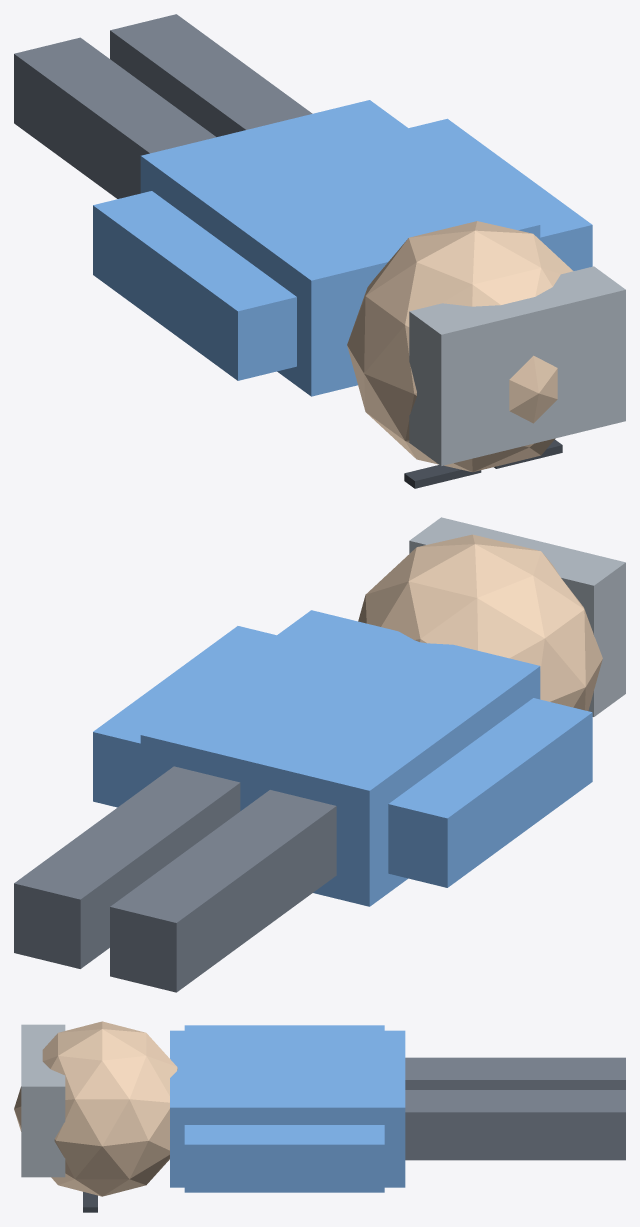
File: junior_variant_5.glb
3 views of the same model, one above another, from view 1: azimuth 30°, elevation 25°; view 2: azimuth 150°, elevation 25°; view 3: azimuth 270°, elevation 25° (orthographic). The views are drawn at different scales.
Parts seen in each view (by area): view 1: torso_2, hair_6, head_5, arm_l_3, leg_l_0, leg_r_1, arm_r_4, glasses_l_7; view 2: torso_2, leg_l_0, head_5, arm_l_3, leg_r_1, arm_r_4, hair_6; view 3: torso_2, head_5, leg_r_1, arm_r_4, leg_l_0, hair_6, arm_l_3, glasses_r_8.
Boxes of the visible parts, x1,y1,x2,y2 form: torso_2: (140,100,540,396); hair_6: (409,266,625,466); head_5: (347,221,573,472); arm_l_3: (93,191,296,380); leg_l_0: (14,37,216,198); leg_r_1: (110,14,312,136); arm_r_4: (409,118,592,270); glasses_l_7: (404,465,481,488); torso_2: (140,610,540,906); leg_l_0: (110,790,336,992); head_5: (358,534,602,710); arm_l_3: (388,698,592,887); leg_r_1: (14,766,240,968); arm_r_4: (93,626,276,807); hair_6: (409,517,625,716); torso_2: (170,1030,405,1187); head_5: (14,1021,177,1196); leg_r_1: (405,1090,625,1160); arm_r_4: (184,1125,384,1192); leg_l_0: (405,1057,625,1089); hair_6: (21,1024,65,1177); arm_l_3: (184,1025,384,1030); glasses_r_8: (83,1192,97,1212).
Bounding box in the file's own units: 0.96 × 0.6 × 2.08.
